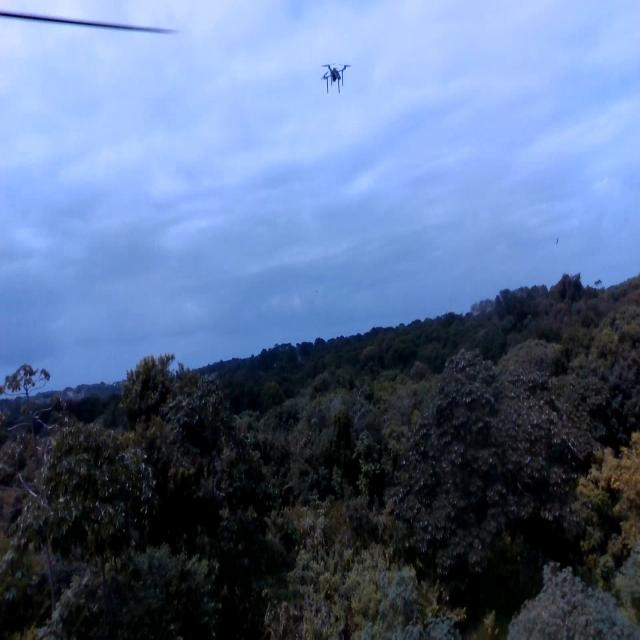-uav-: (311, 47, 357, 114)
